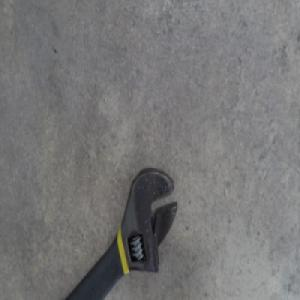AdjustableWrench: (66, 165, 178, 298)
